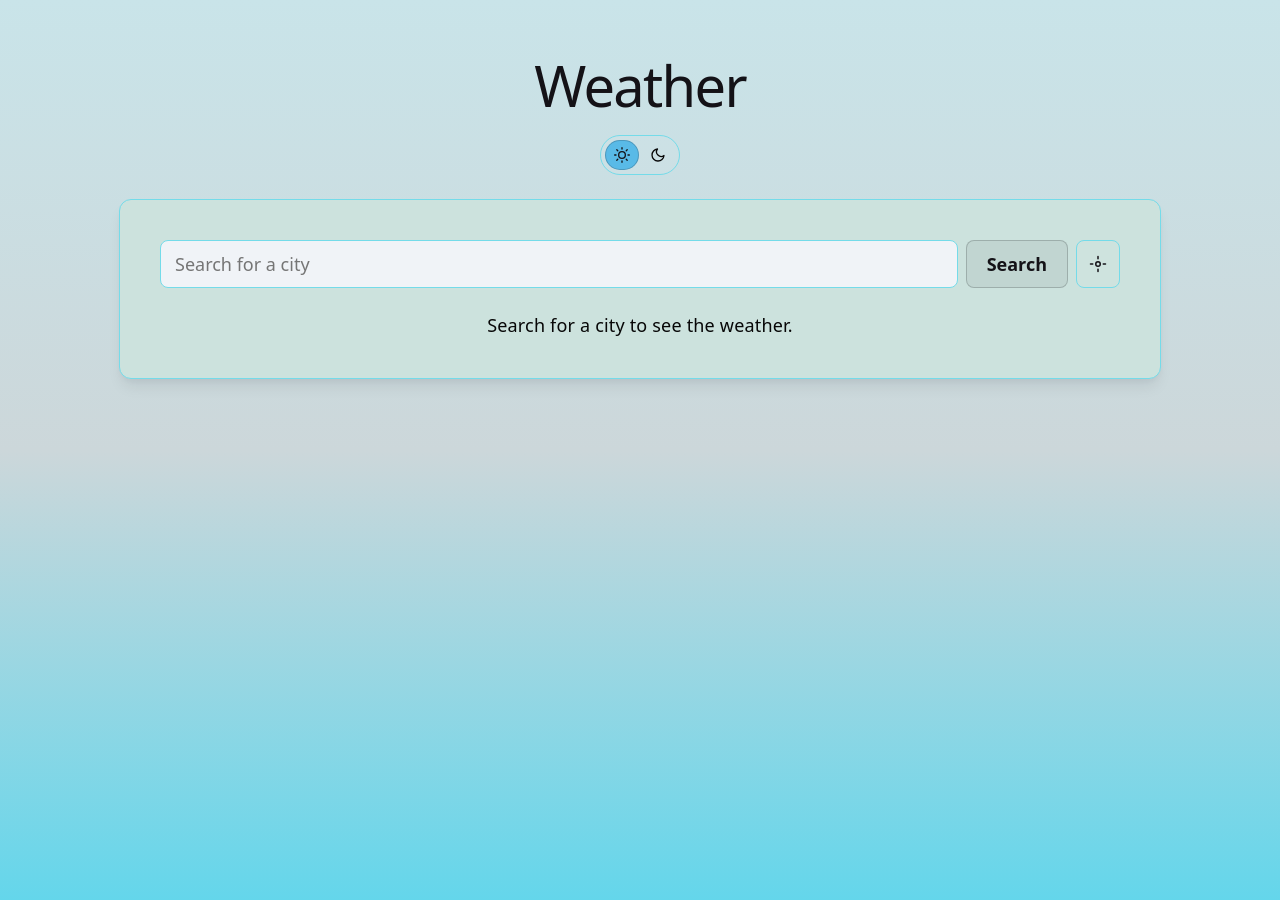
Test case: App loading and error screens › shows the error screen when geocoding fails
Type "Nowhere" into the field named "City name" at (559, 264), box [160,240,958,288]
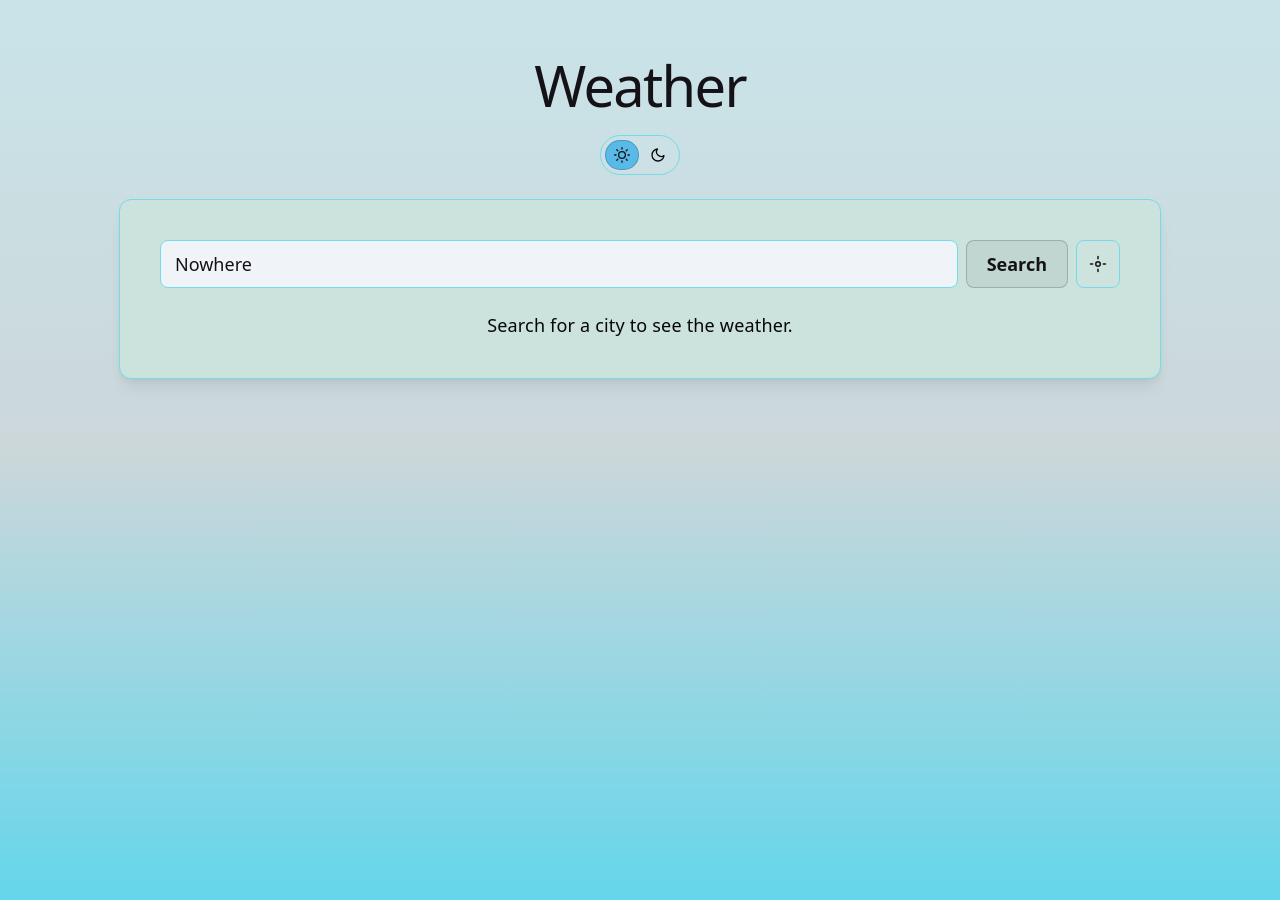
Click the button "Search" at (1017, 264), box [966,240,1068,288]
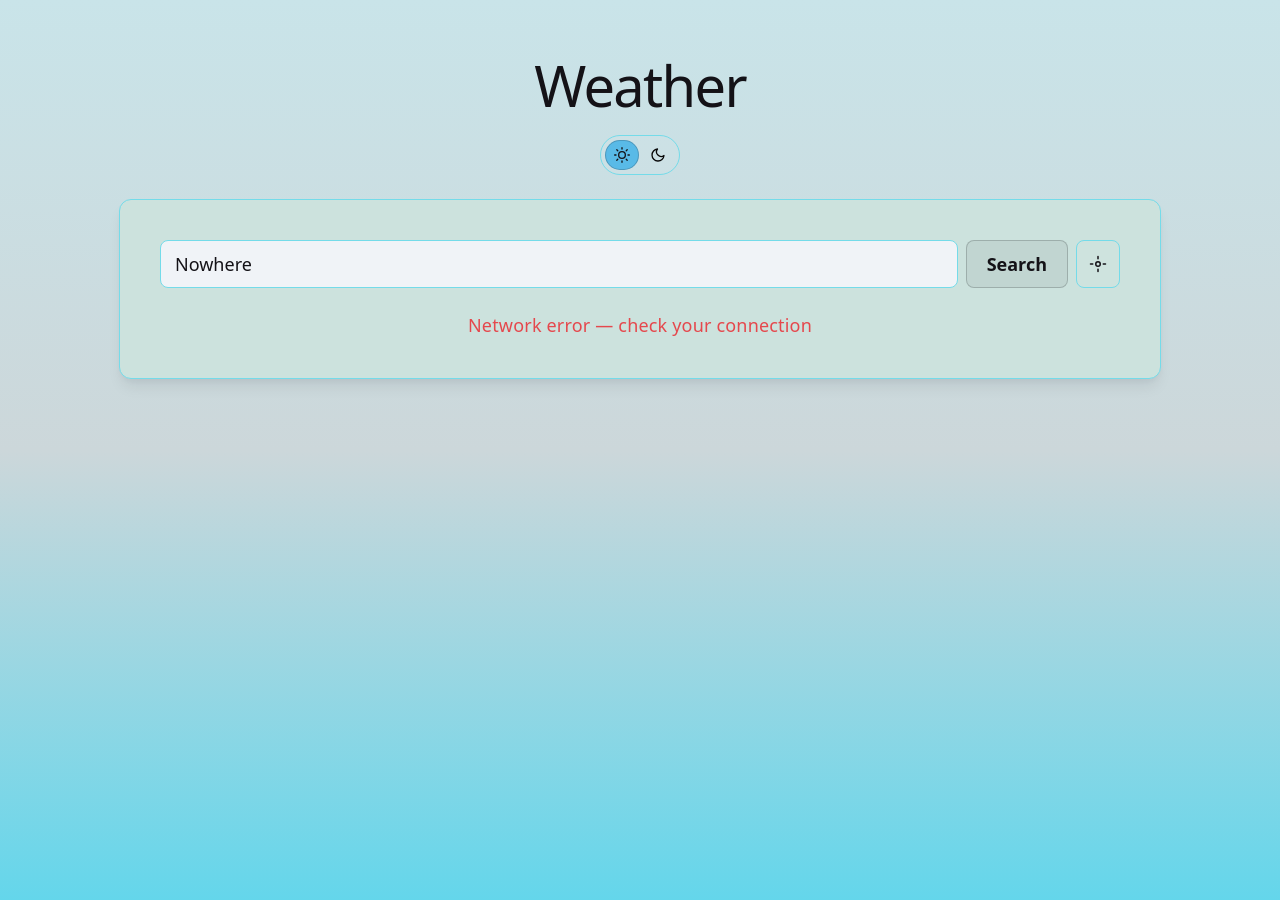
Now the message reads "Network error — check your connection", box [468,313,812,337]
